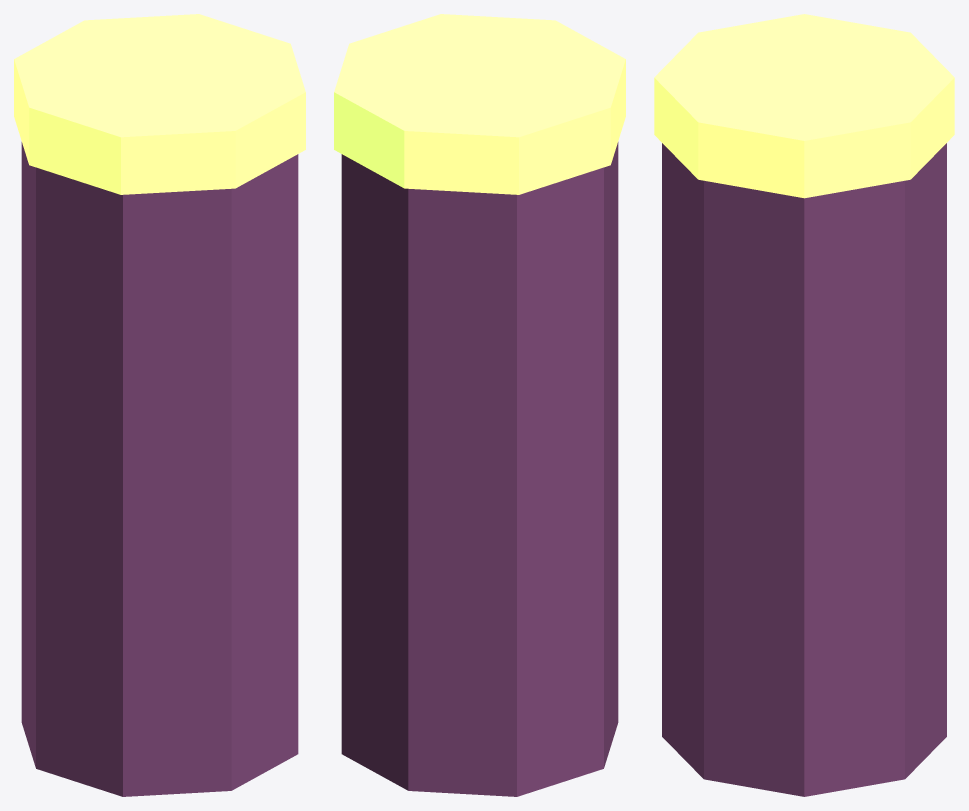
The model's file is street_025_seed11.glb.
3 views of the same model, side by side, from view 1: azimuth 30°, elevation 25°; view 2: azimuth 150°, elevation 25°; view 3: azimuth 270°, elevation 25° (orthographic).
Visible parts, largest first — view 1: street_025_seed11; view 2: street_025_seed11; view 3: street_025_seed11.
Part boxes in pixels (left/top/right/bottom): street_025_seed11: left=14, top=14, right=305, bottom=796; street_025_seed11: left=334, top=14, right=625, bottom=796; street_025_seed11: left=654, top=14, right=954, bottom=796.
Size of the model in its own units: 0.38 by 0.92 by 0.38.
